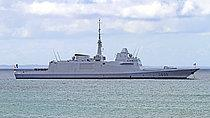MIL_Ship: (13, 38, 201, 80)
